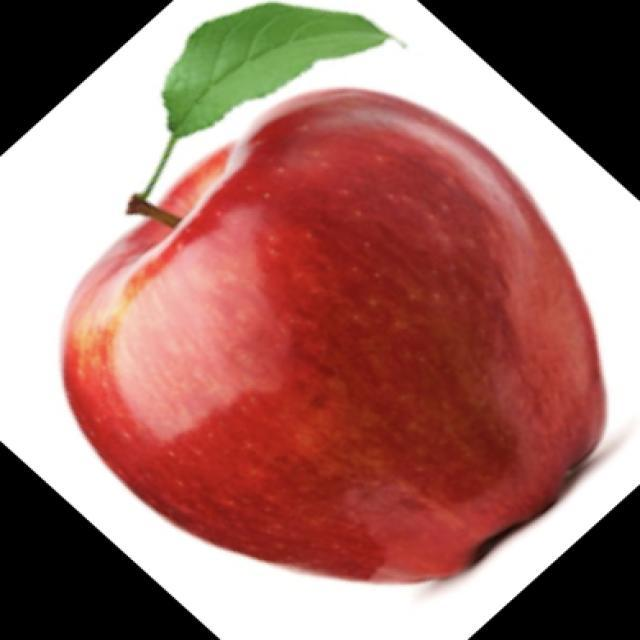Fresh Apple: (57, 86, 612, 584)
